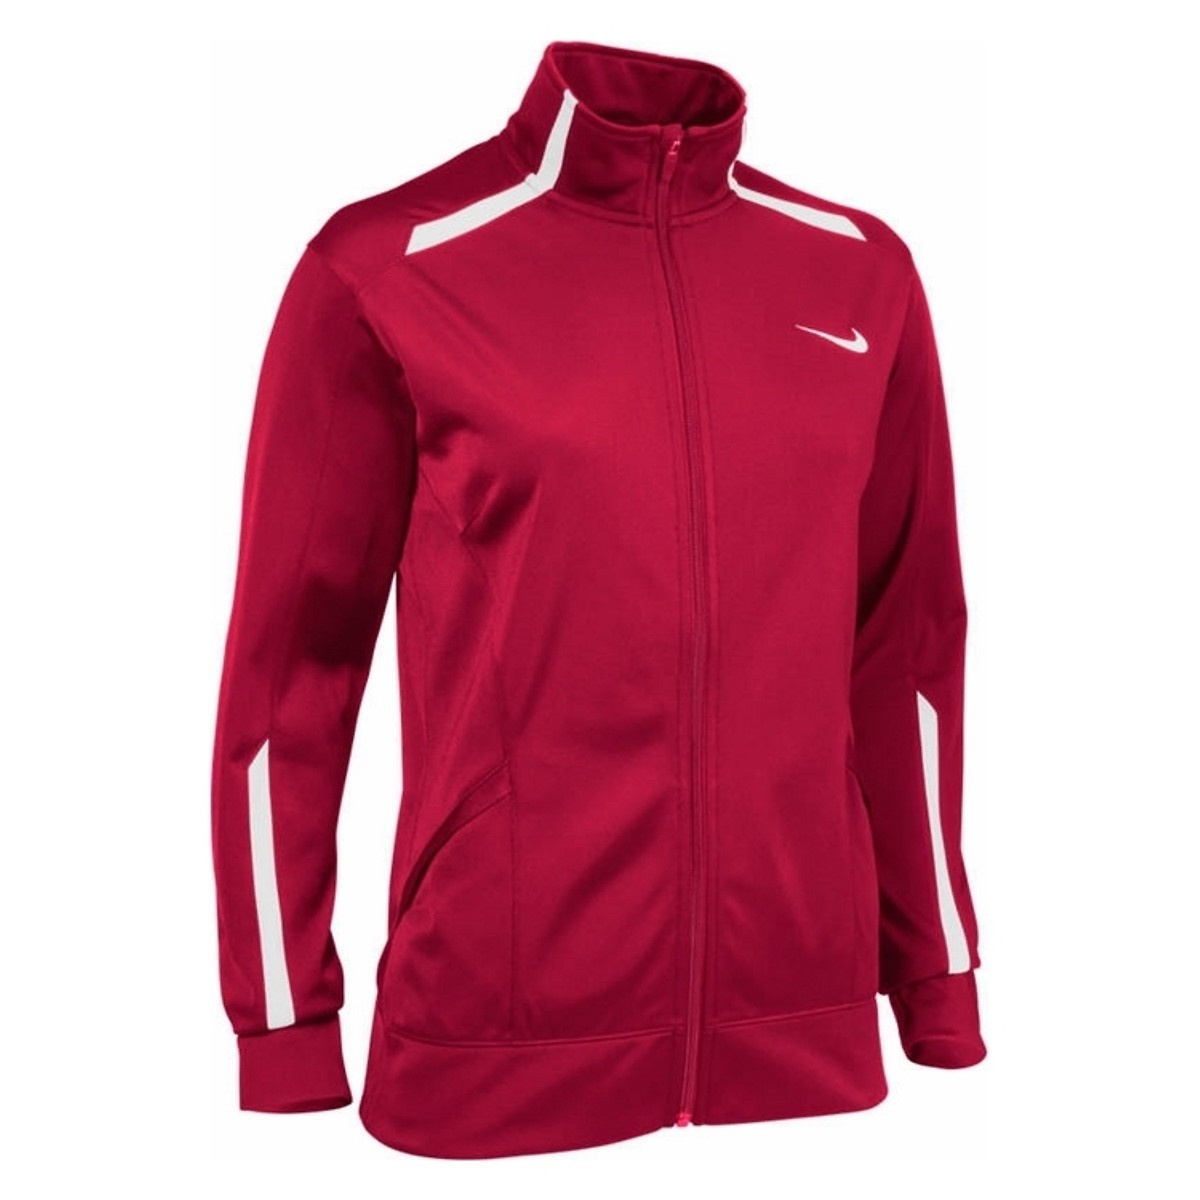Nike: (648, 265, 921, 487)
